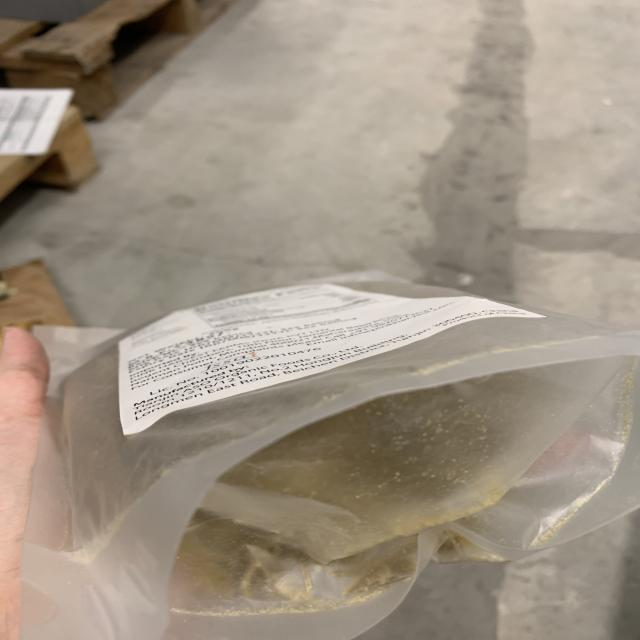object_name: (62, 325, 632, 550)
